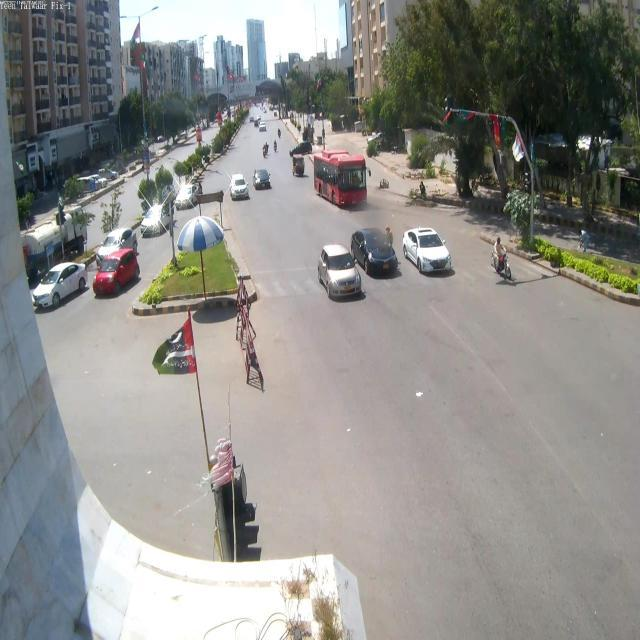car: (93, 235, 142, 296), (30, 261, 88, 311), (317, 242, 365, 300), (401, 224, 453, 274), (350, 229, 400, 279), (134, 205, 172, 239), (171, 180, 200, 209), (229, 176, 250, 202), (255, 169, 272, 188)
motorbike: (481, 232, 516, 288)
